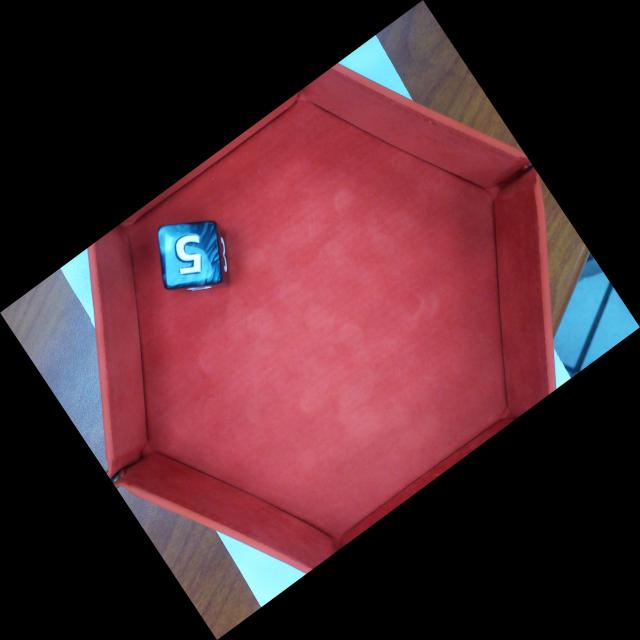dice: (161, 229, 218, 286)
